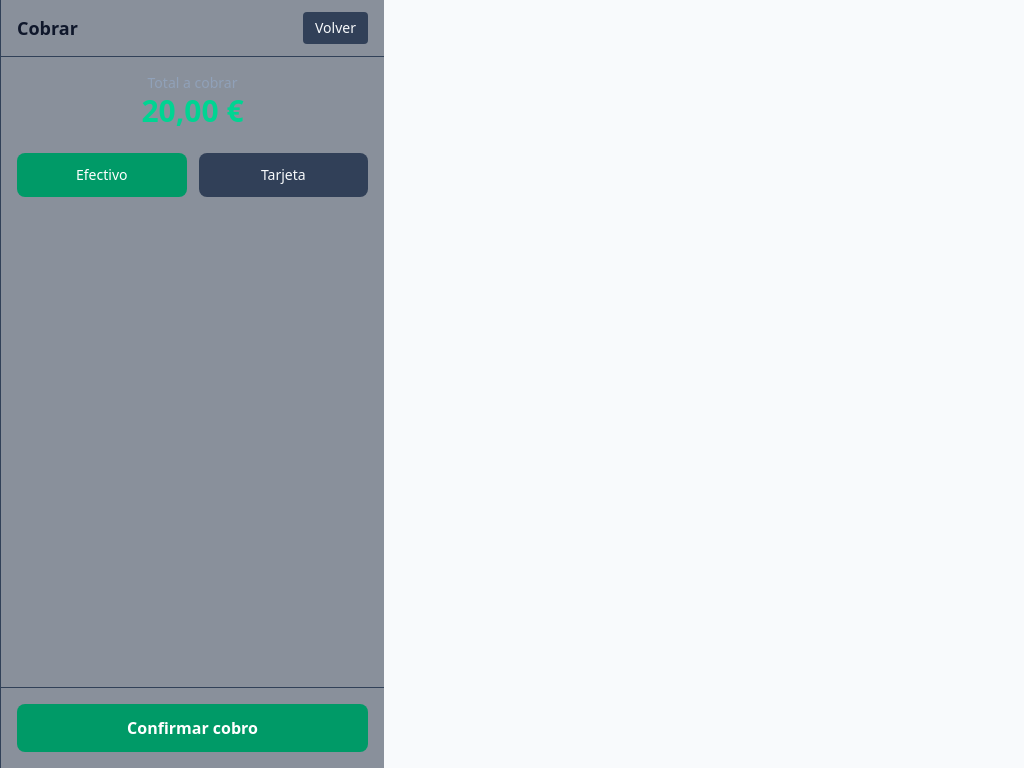
Scenario: Checkout › previews the change for a cash overpayment
Step 1. Click the button "Efectivo" → (102, 175), box top-left (17, 153), bottom-right (186, 197)
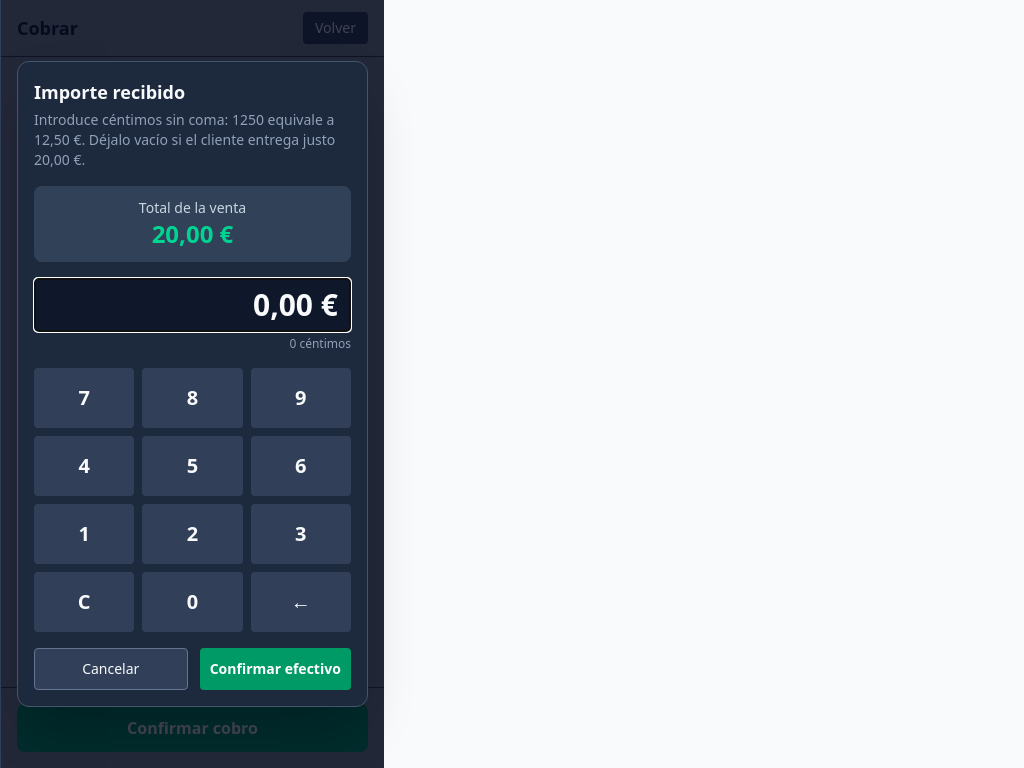
Step 2. Click the button "5" → (192, 466), box top-left (142, 436), bottom-right (243, 496)
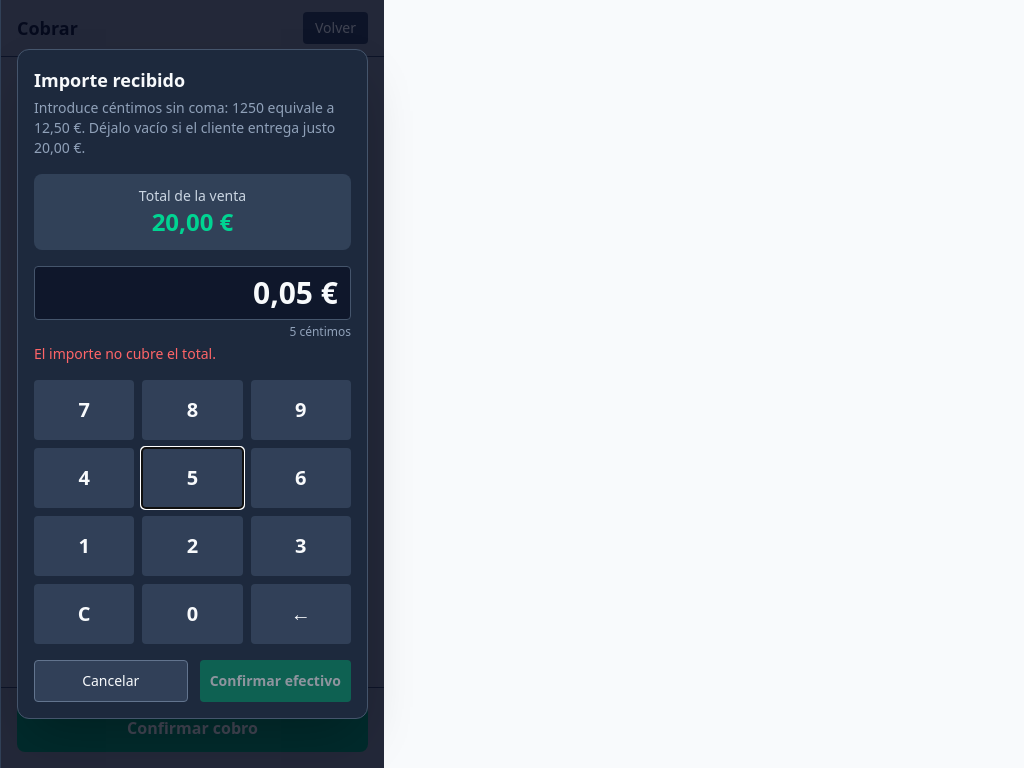
Step 3. Click the button "0" → (192, 614), box top-left (142, 584), bottom-right (243, 644)
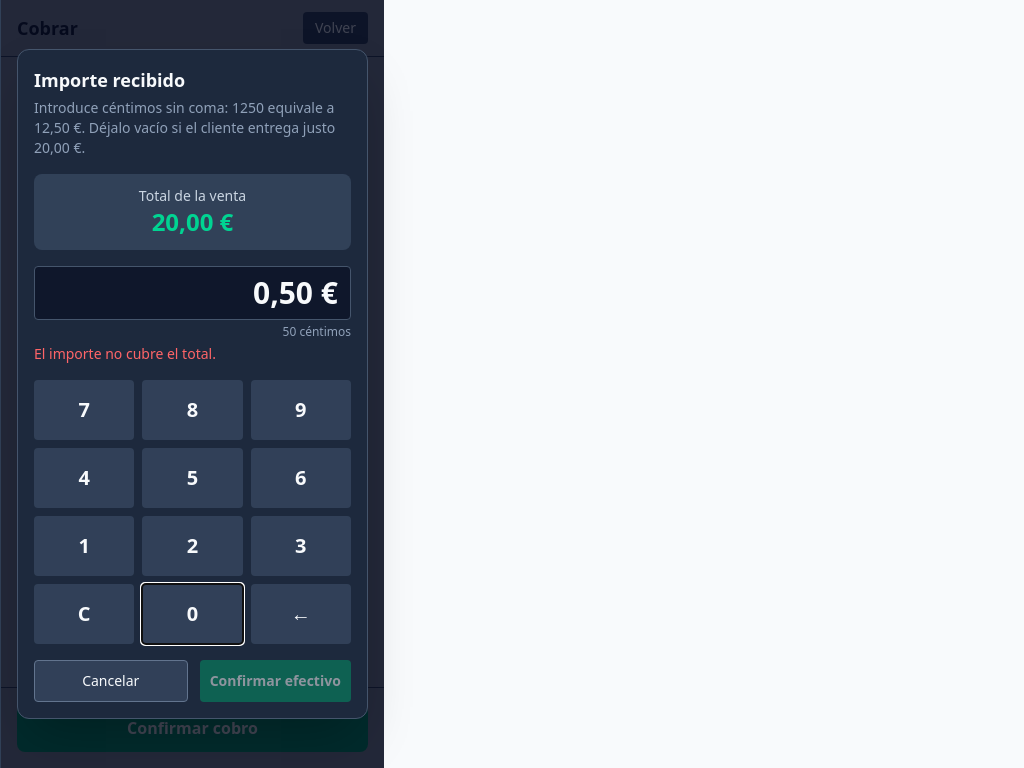
Step 4. Click the button "0" → (192, 614), box top-left (142, 584), bottom-right (243, 644)
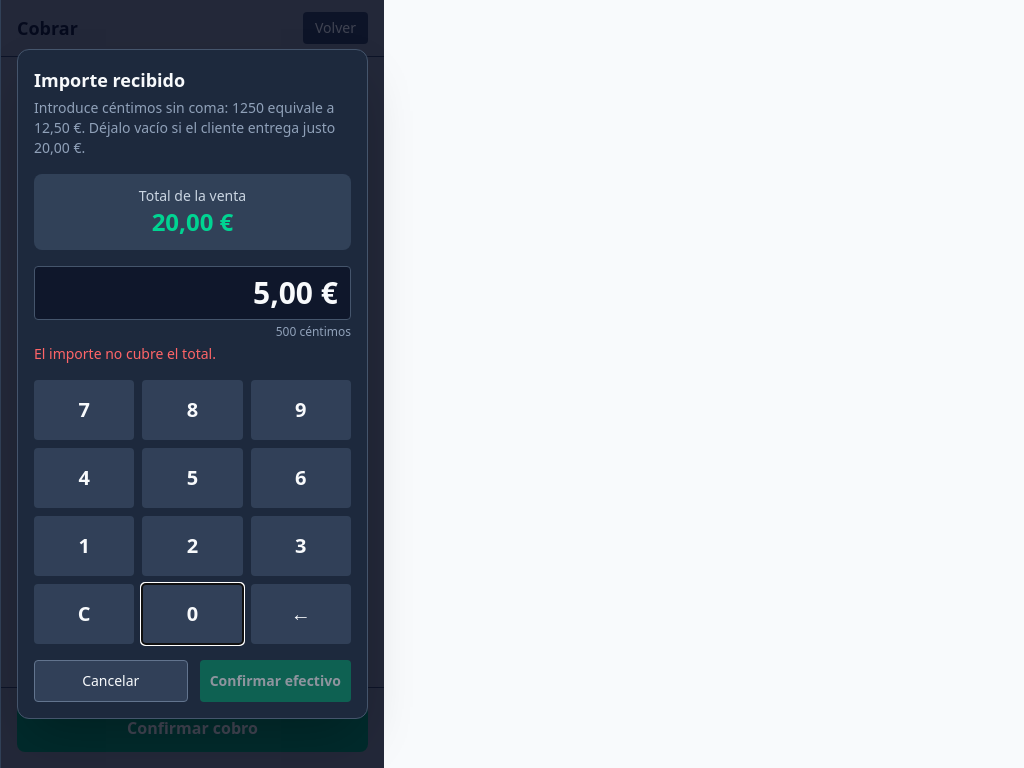
Step 5. Click the button "0" → (192, 614), box top-left (142, 584), bottom-right (243, 644)
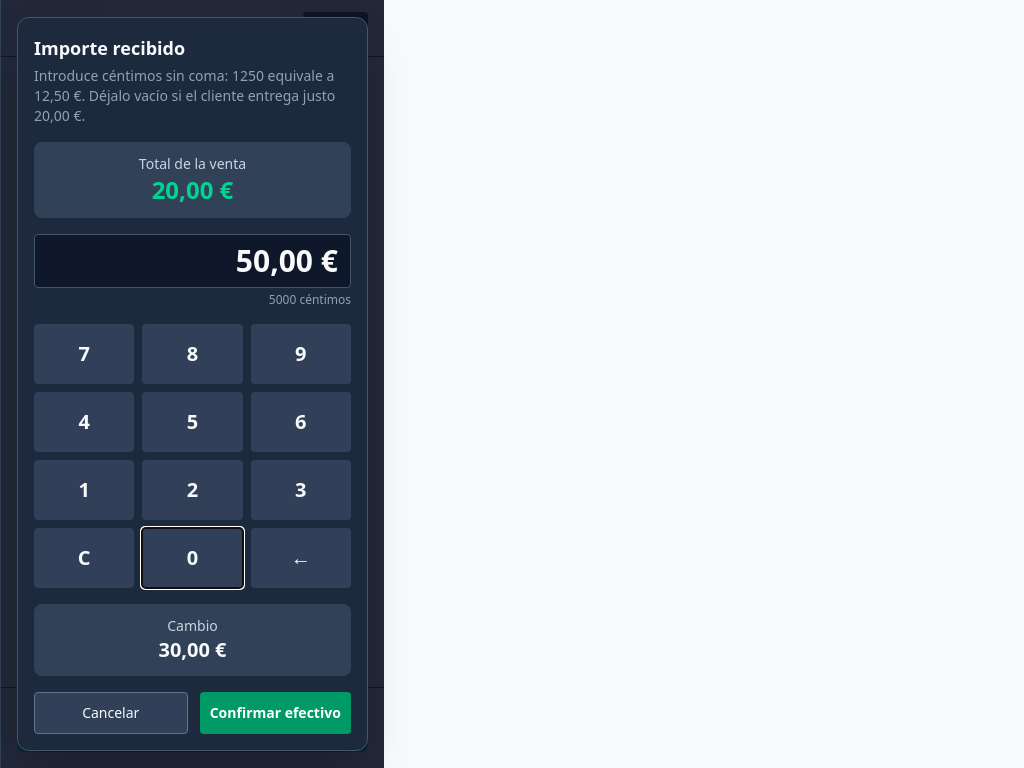
Expected: the text "Cambio" is shown, top-left (167, 616), bottom-right (218, 635)
Expected: the text "30,00 €" is shown, top-left (158, 636), bottom-right (226, 663)
